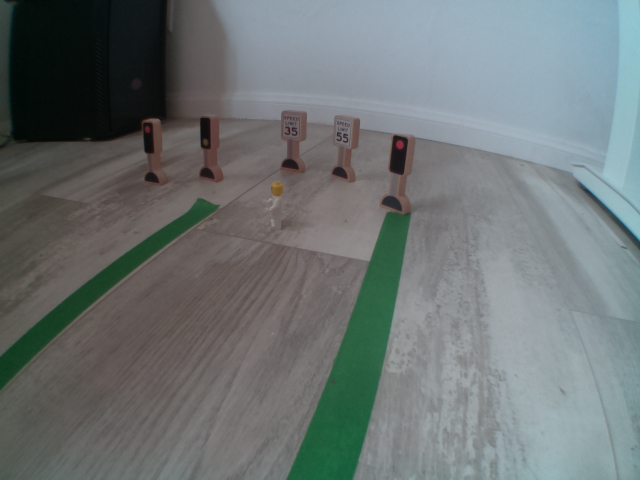Green Traffic Light: (198, 117, 215, 149)
Red Traffic Light: (387, 132, 411, 176), (140, 120, 157, 153)
Speed Limit 35: (280, 111, 304, 143)
Speed Limit 55: (333, 113, 354, 150)
person: (258, 179, 289, 232)
